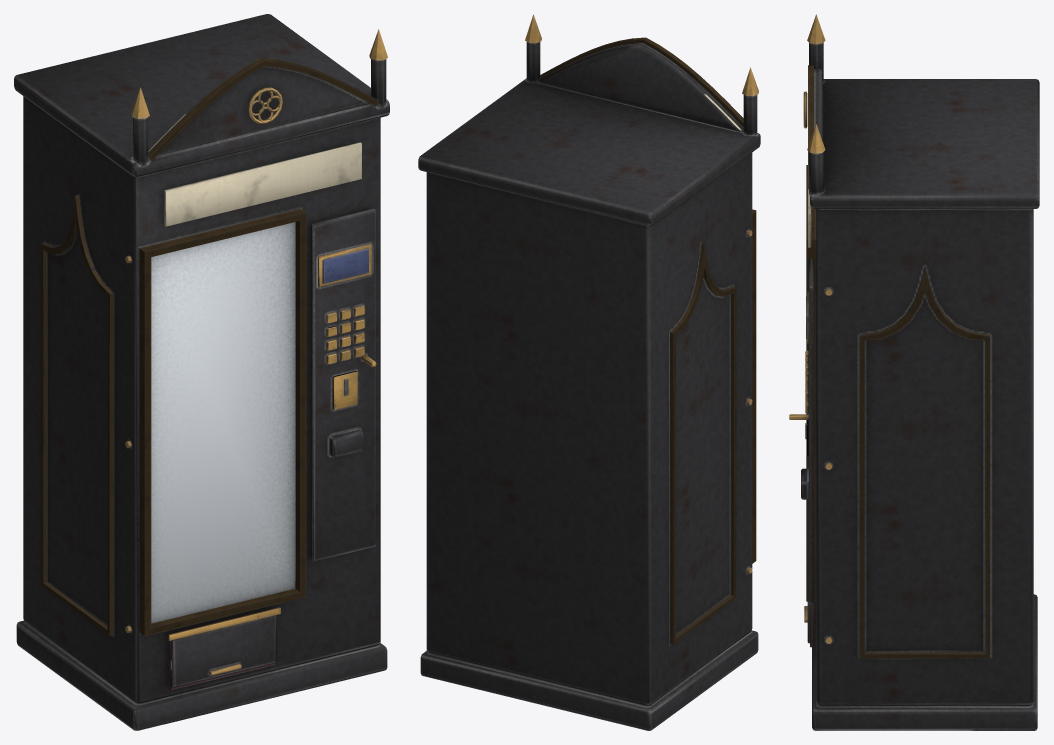
The model's file is VendingMachine.fbx.
3 renders of one model, left to right at view 1: azimuth 30°, elevation 25°; view 2: azimuth 150°, elevation 25°; view 3: azimuth 270°, elevation 25°, orthographic. The views are drawn at different scales.
Parts seen in each view (by area): view 1: VendingMachine_Body, VendingMachine_Glass, VendingMachine_Glow, VendingMachine_Flap; view 2: VendingMachine_Body; view 3: VendingMachine_Body.
Boxes of the visible parts, bbox=[...] form: VendingMachine_Body: bbox=[14, 14, 389, 730]; VendingMachine_Glass: bbox=[151, 222, 295, 623]; VendingMachine_Glow: bbox=[164, 142, 361, 226]; VendingMachine_Flap: bbox=[172, 615, 275, 687]; VendingMachine_Body: bbox=[418, 14, 760, 730]; VendingMachine_Body: bbox=[789, 14, 1039, 730].
Size of the model in its own units: 335 by 800 by 300.
